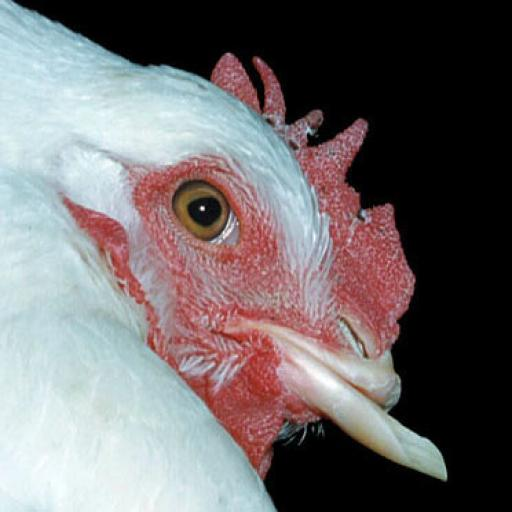disease: (351, 198, 383, 244), (256, 98, 286, 130), (287, 134, 305, 162), (302, 124, 319, 145)
